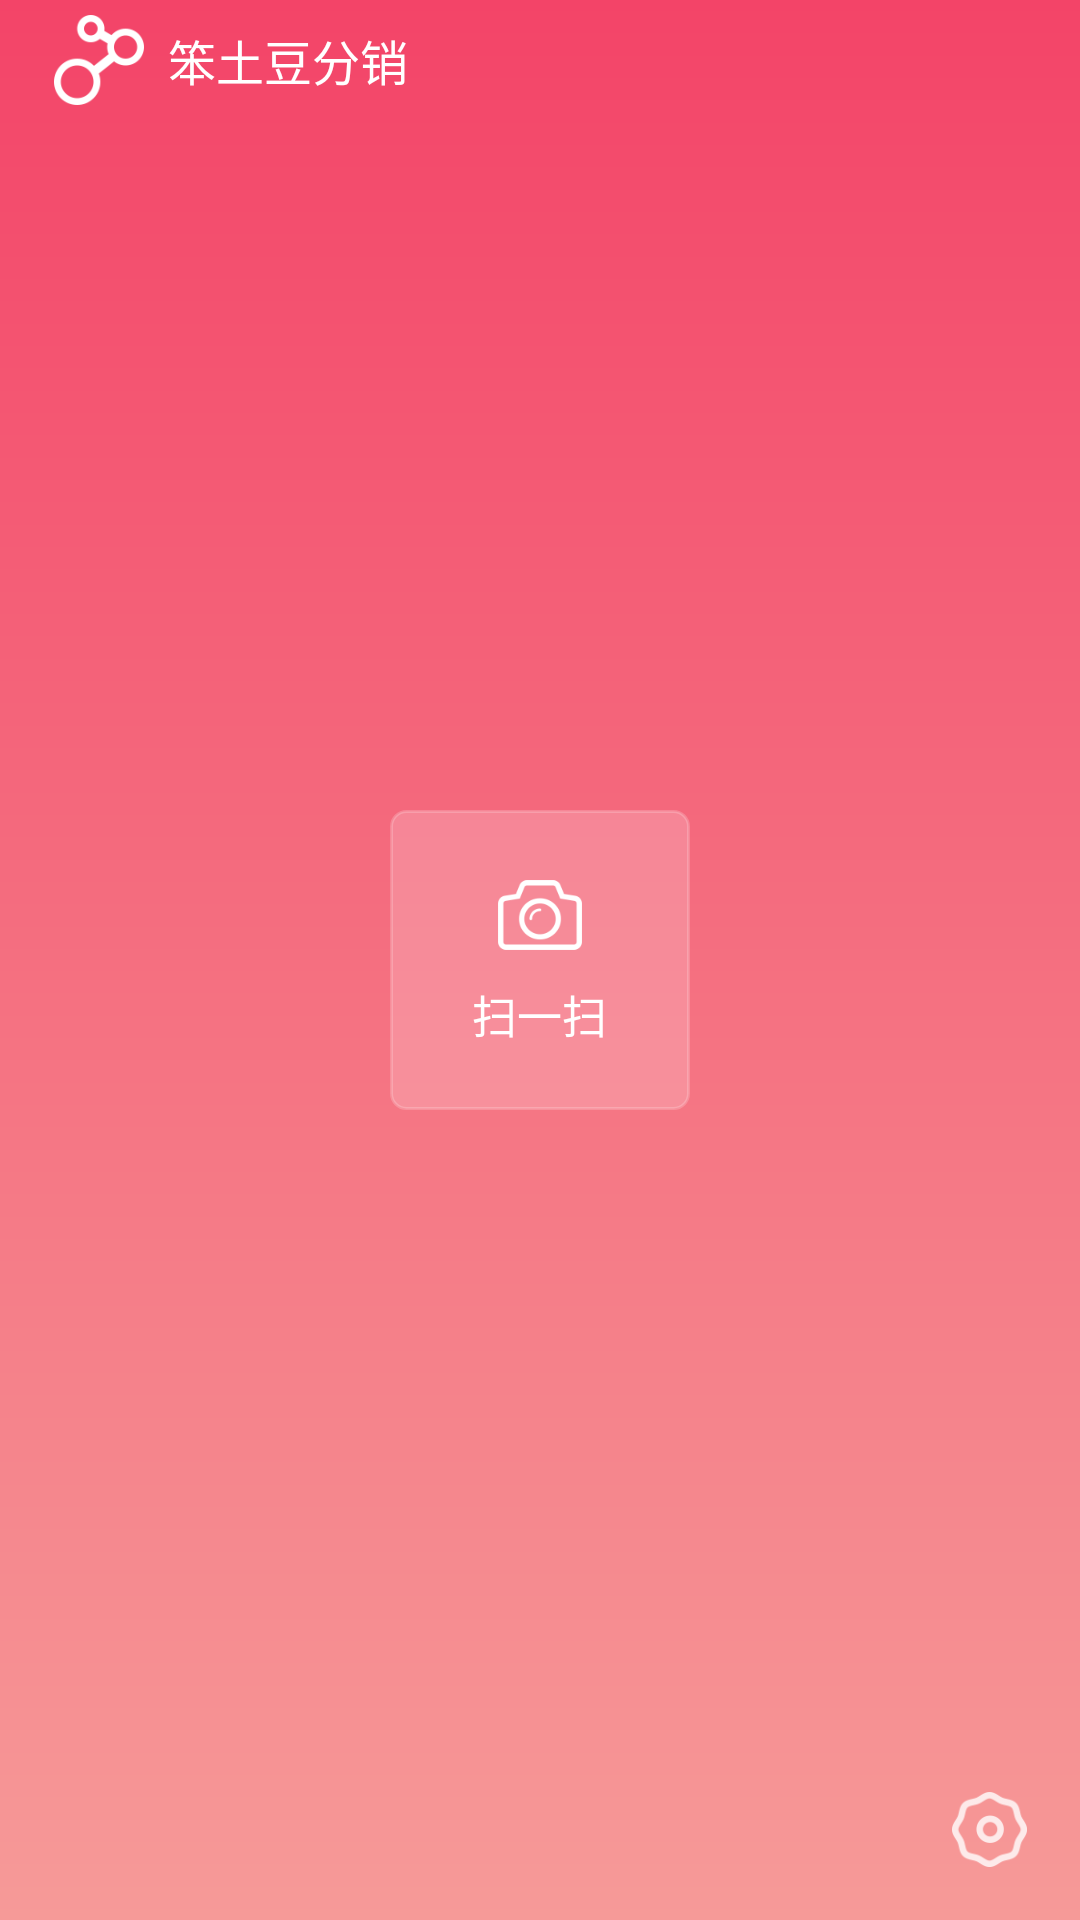

Icon click points for this 1080*1920 phone screenshot, format [x,y]:
shouye shezhi: [989,1829]
